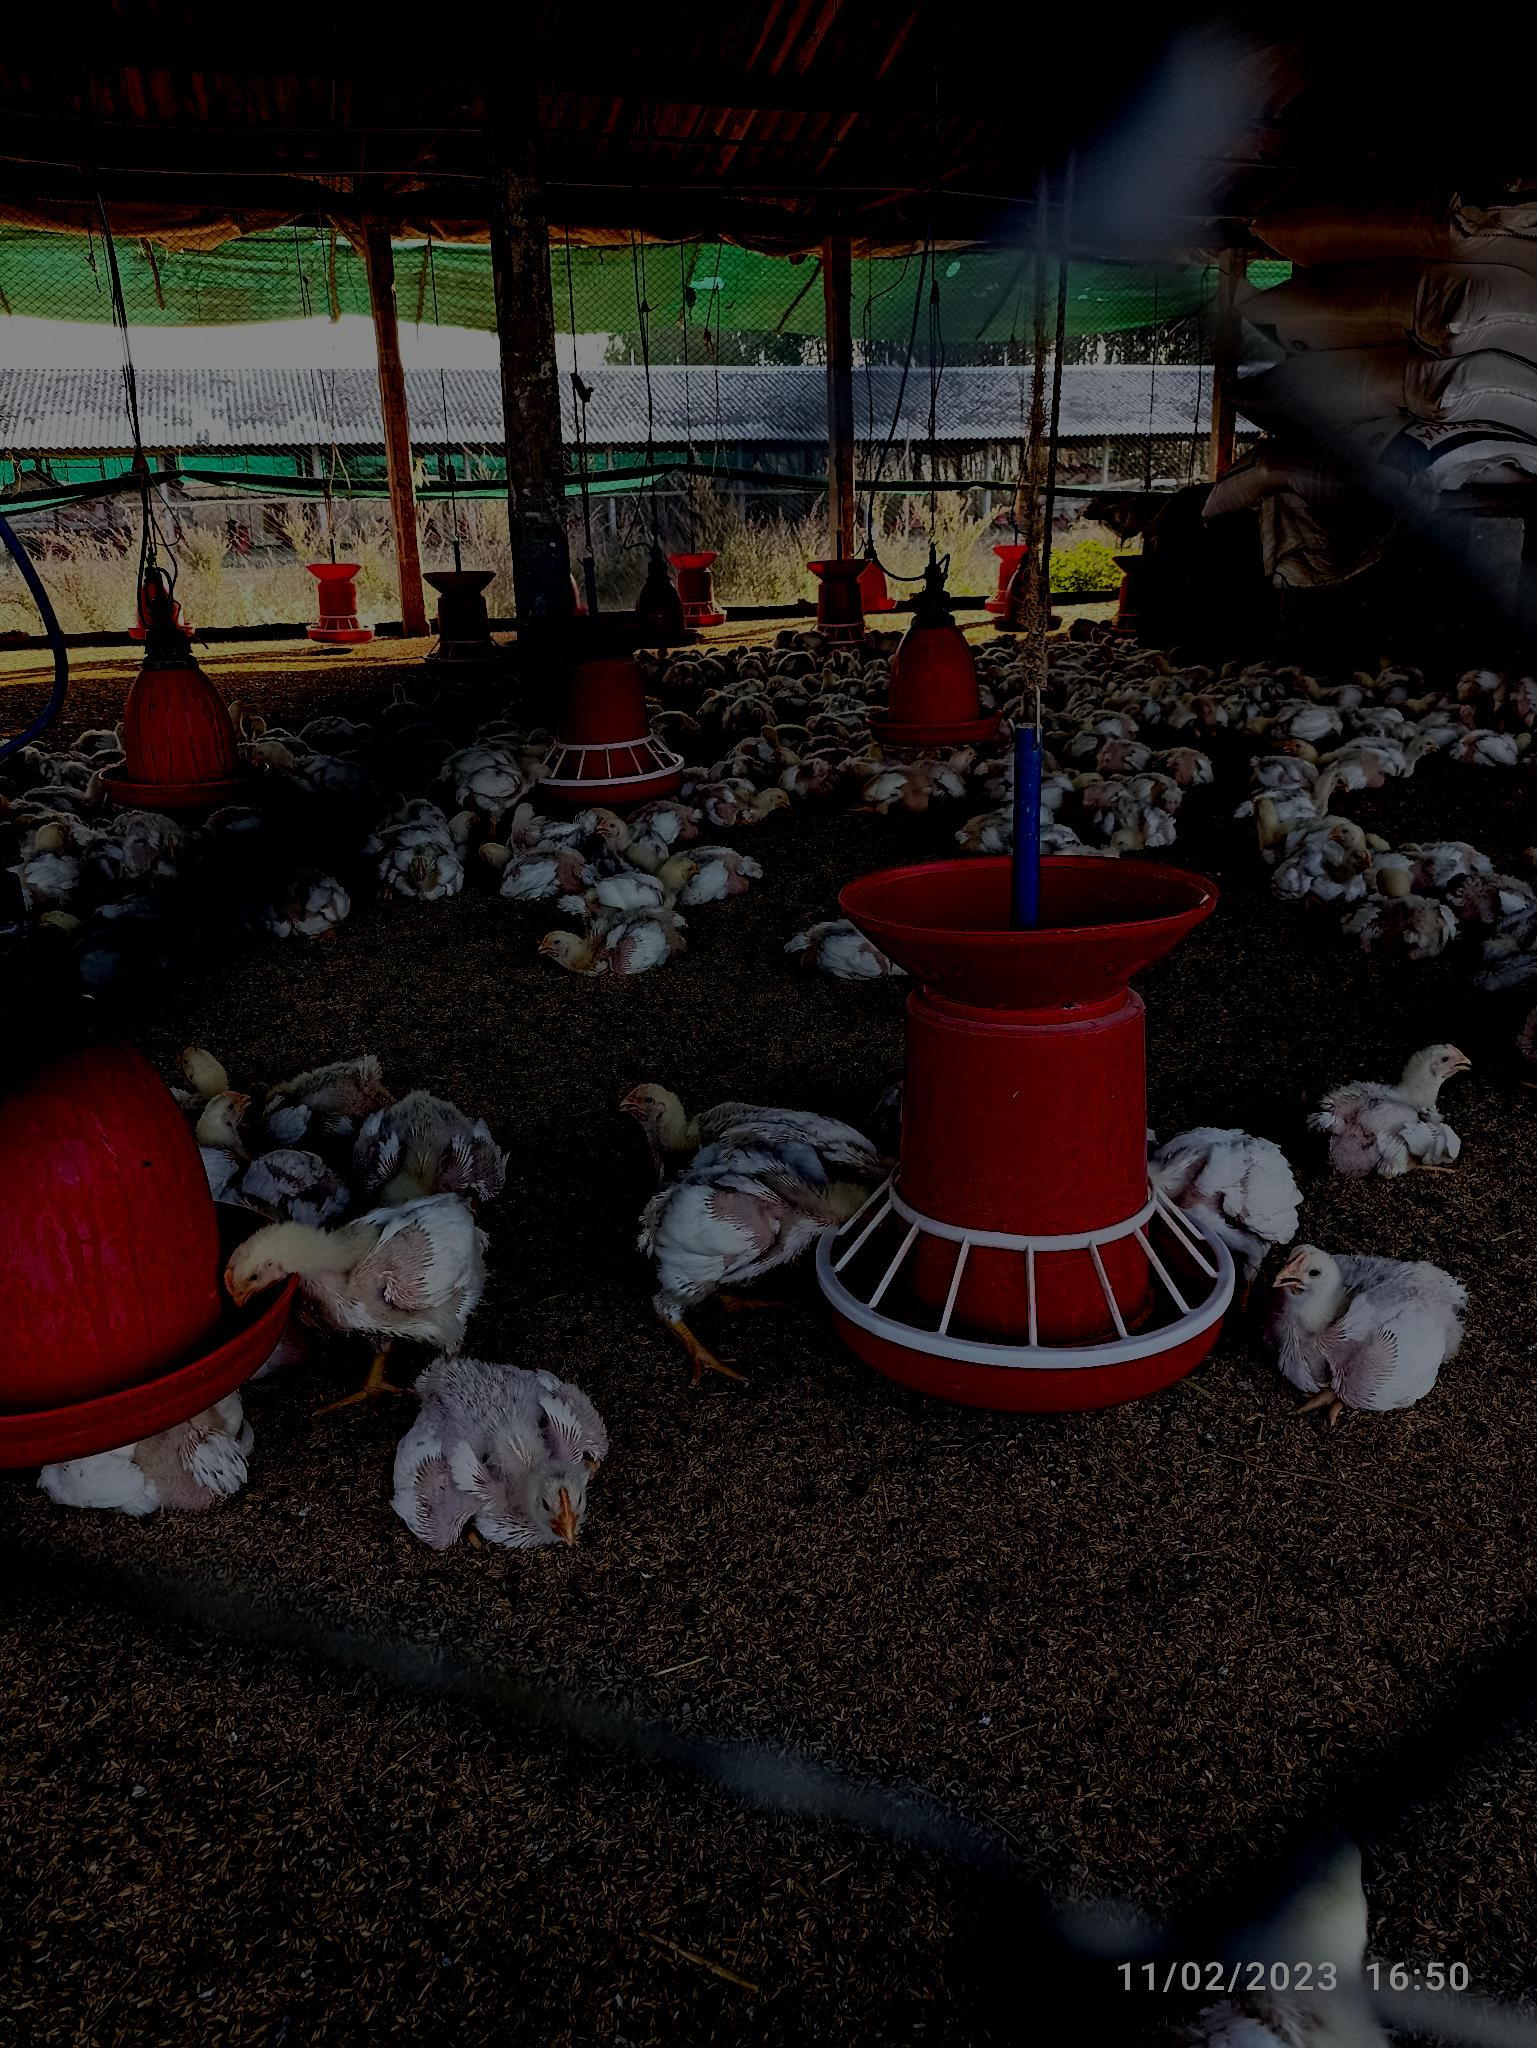Pollos: (229, 1175, 491, 1356), (391, 1349, 610, 1561), (1266, 1243, 1477, 1411), (618, 1072, 865, 1181), (1308, 1041, 1485, 1172), (538, 909, 691, 978), (375, 825, 476, 901)
